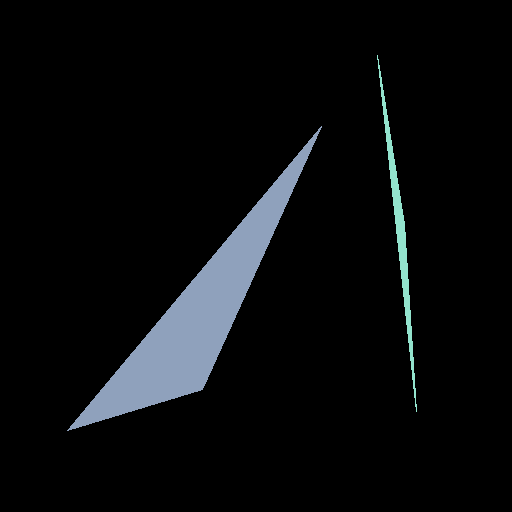triangle: (67, 126, 321, 430)
